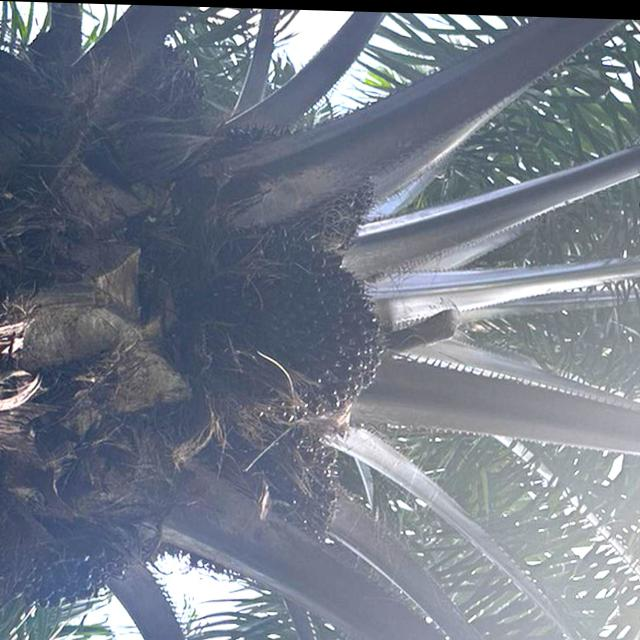almost: (225, 239, 391, 422), (196, 427, 351, 573), (218, 118, 382, 254), (114, 35, 214, 183)
